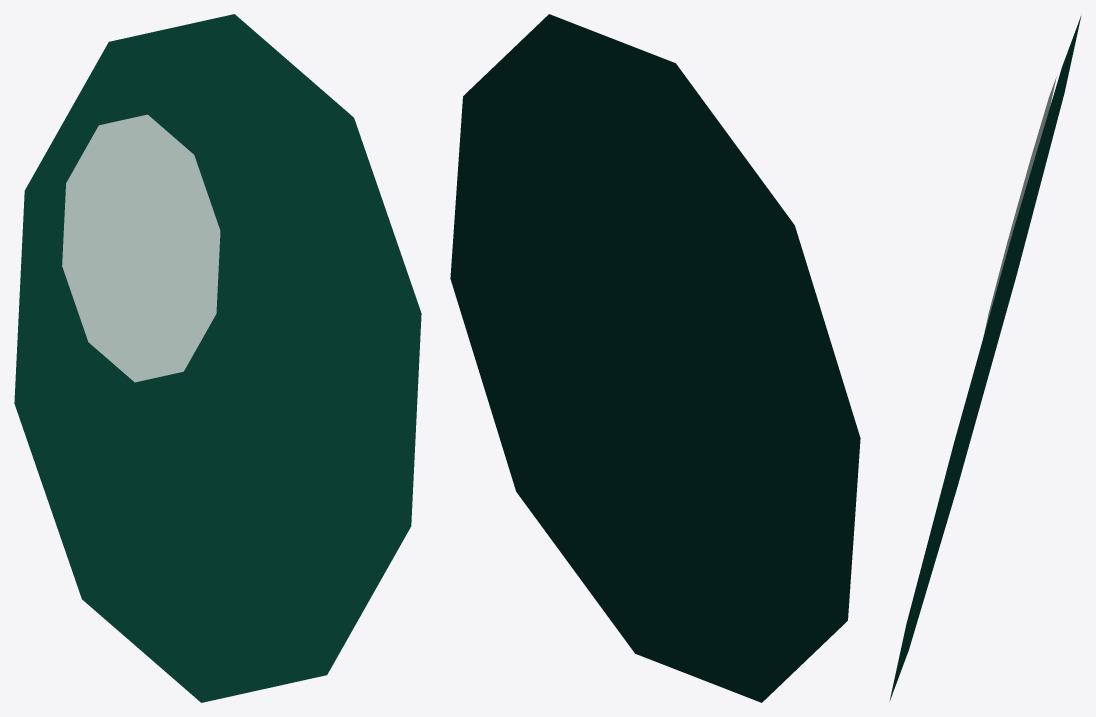
The model's file is scareCrowPupilGreenRight.glb.
3 renders of one model, left to right at view 1: azimuth 30°, elevation 25°; view 2: azimuth 150°, elevation 25°; view 3: azimuth 270°, elevation 25°, orthographic. The views are drawn at different scales.
Visible parts, largest first — view 1: scareCrowPupilGreenRight; view 2: scareCrowPupilGreenRight; view 3: scareCrowPupilGreenRight.
Boxes of the visible parts, x1,y1,x2,y2 form: scareCrowPupilGreenRight: [14, 14, 421, 702]; scareCrowPupilGreenRight: [450, 14, 860, 702]; scareCrowPupilGreenRight: [889, 16, 1081, 700].
Bounding box in the file's own units: 0.032 × 0.0494 × 0.0135.
